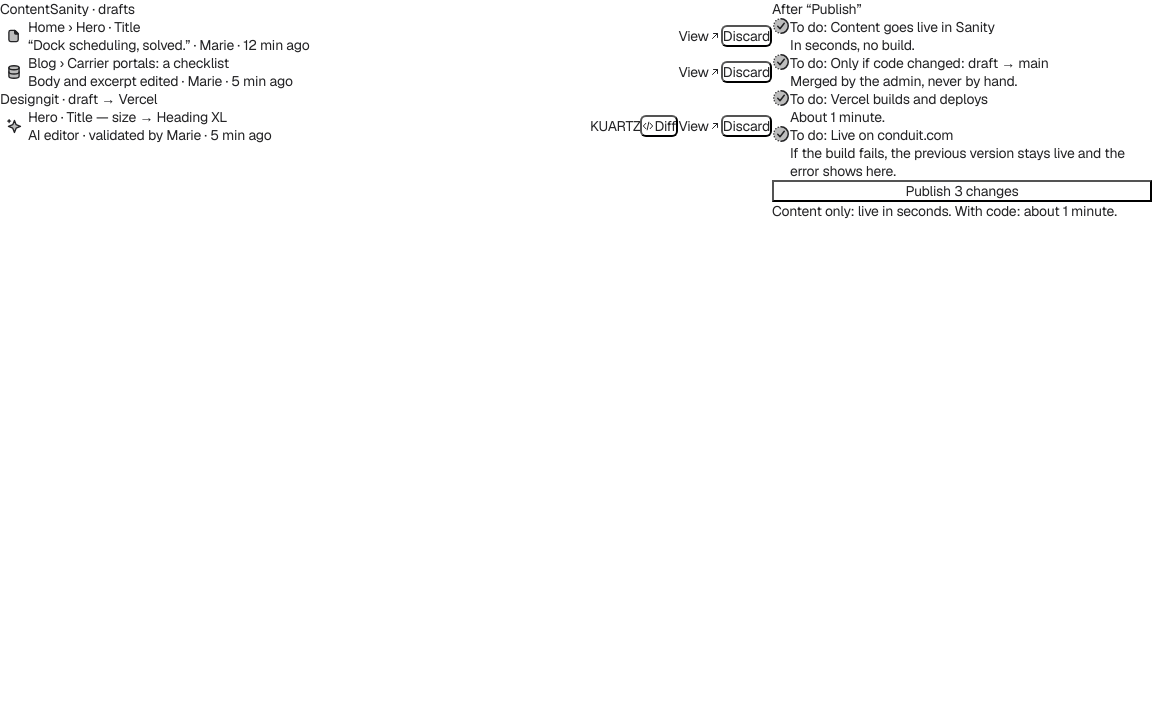
Test: E1 · Pending › diff refusé ou en erreur : message et « Try again »
This screenshot has width=1152, height=720.
Click the button with aria-label "Diff of" at (659, 126), box [640, 115, 678, 137]
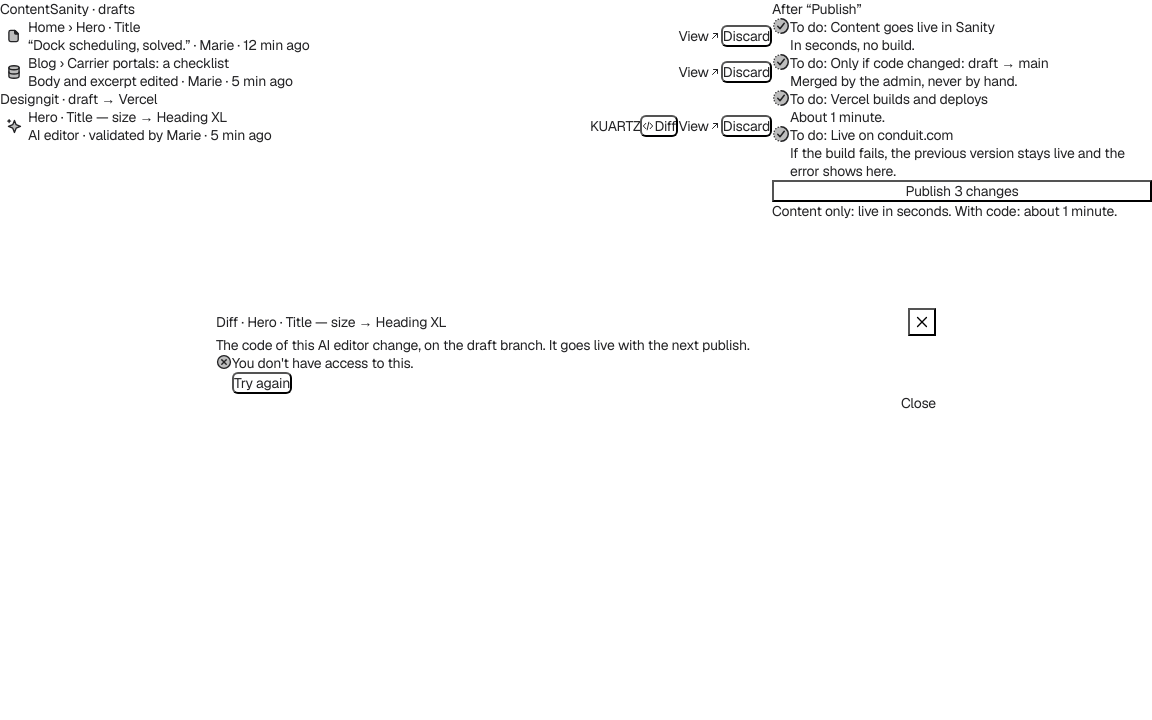
Now the message shows "You don't have access to this.", box [232, 354, 413, 372]
Now the button "Try again" is shown, box [232, 372, 292, 394]
